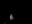person: (3, 20, 8, 24), (9, 15, 13, 19)
